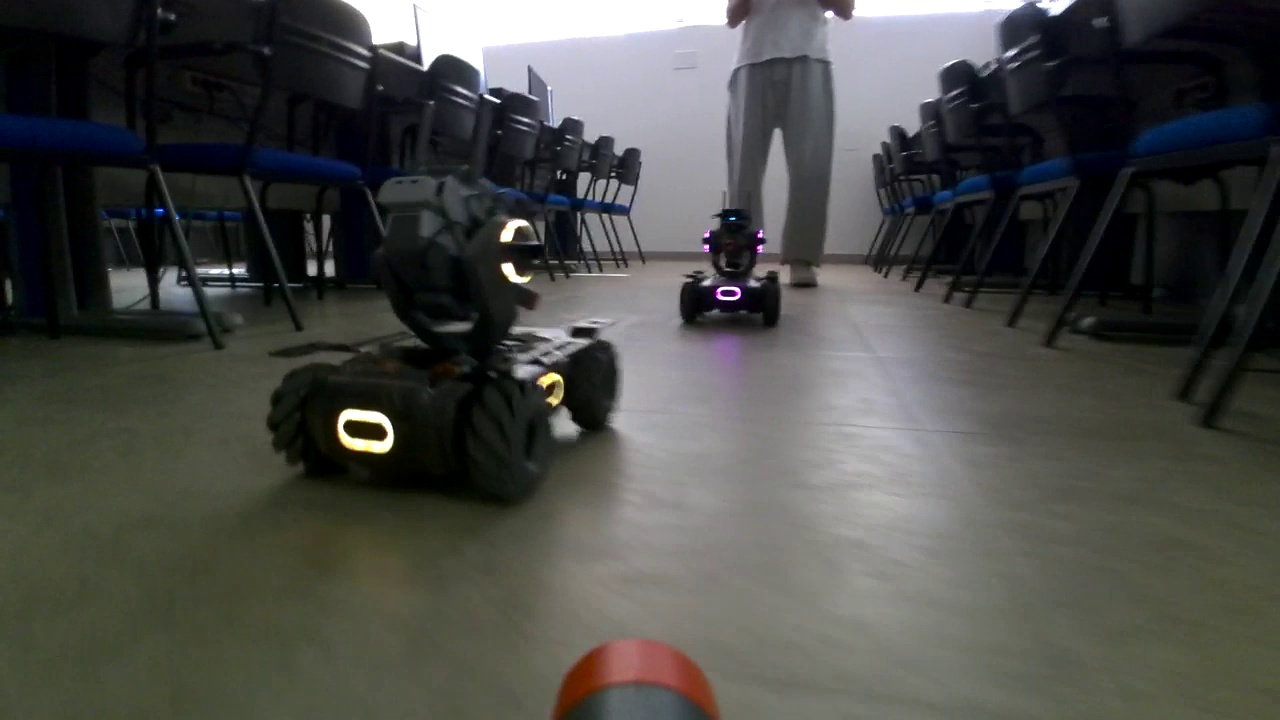robot: (262, 157, 626, 502), (676, 188, 783, 327)
